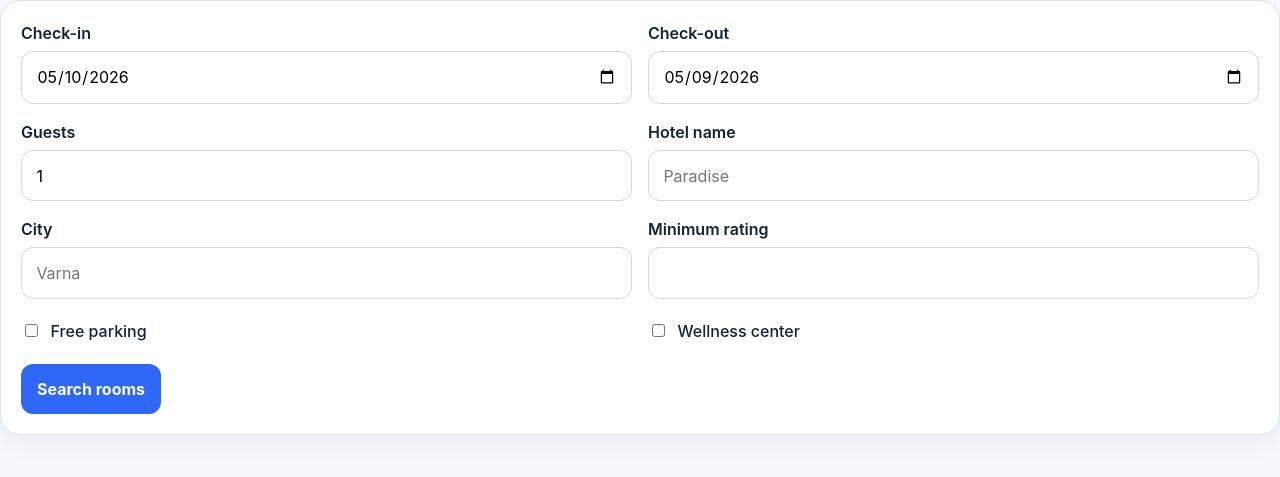
Test: SearchForm › shows validation when dates are invalid
Click the button "Search rooms".
click(91, 389)  # box [21, 364, 161, 414]
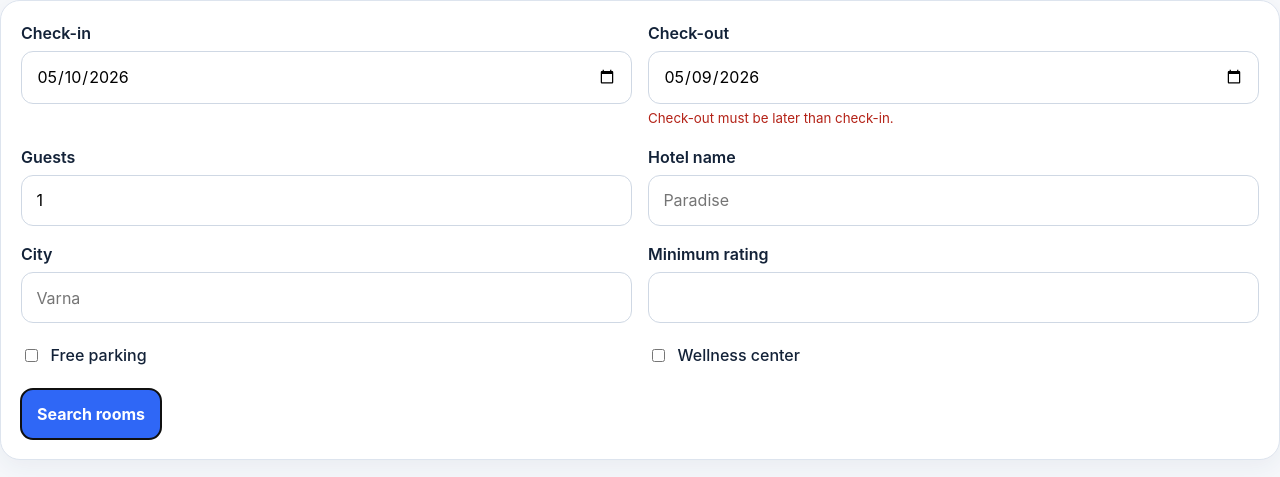
expect the text "Check-out must be later than check-in." is shown: met, box [648, 110, 894, 126]
